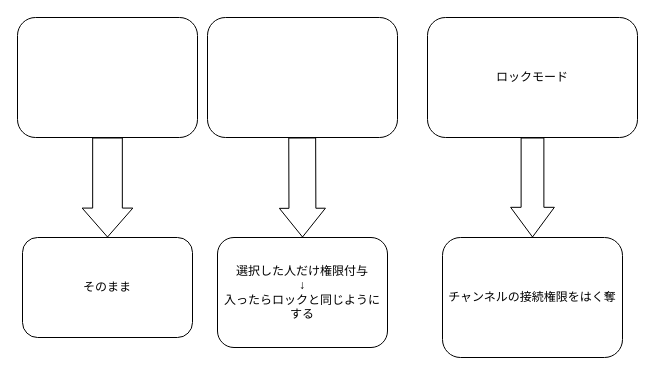
Image size: 655x375. Some labels were removed from this diagram. Each missing label, with the box of its shape:
申請モード: (206, 16, 398, 138)
通常モード: (16, 16, 198, 138)
